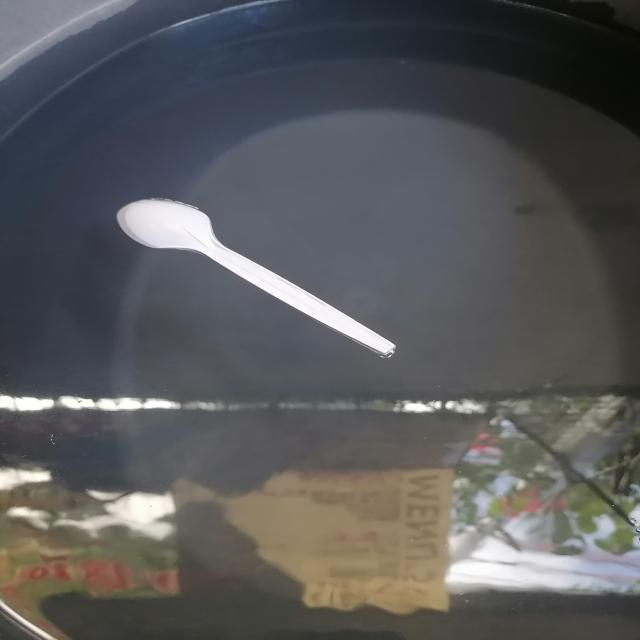Plastic Spoon: (117, 198, 395, 357)
